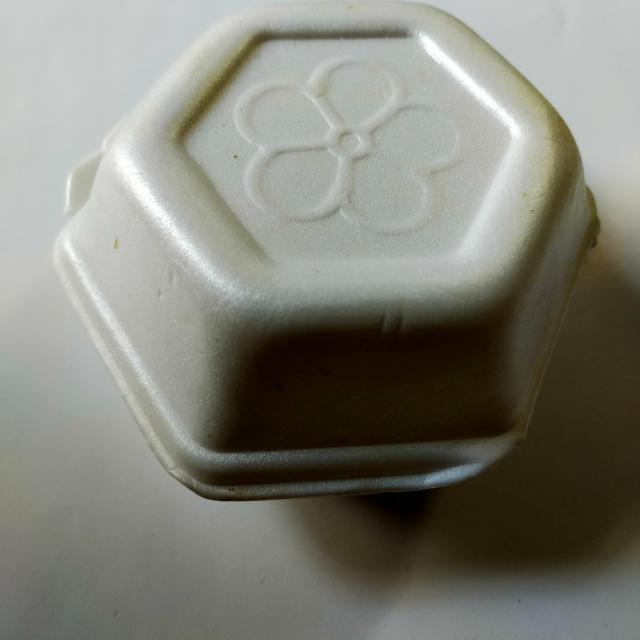styrofoam: (50, 0, 600, 502)
